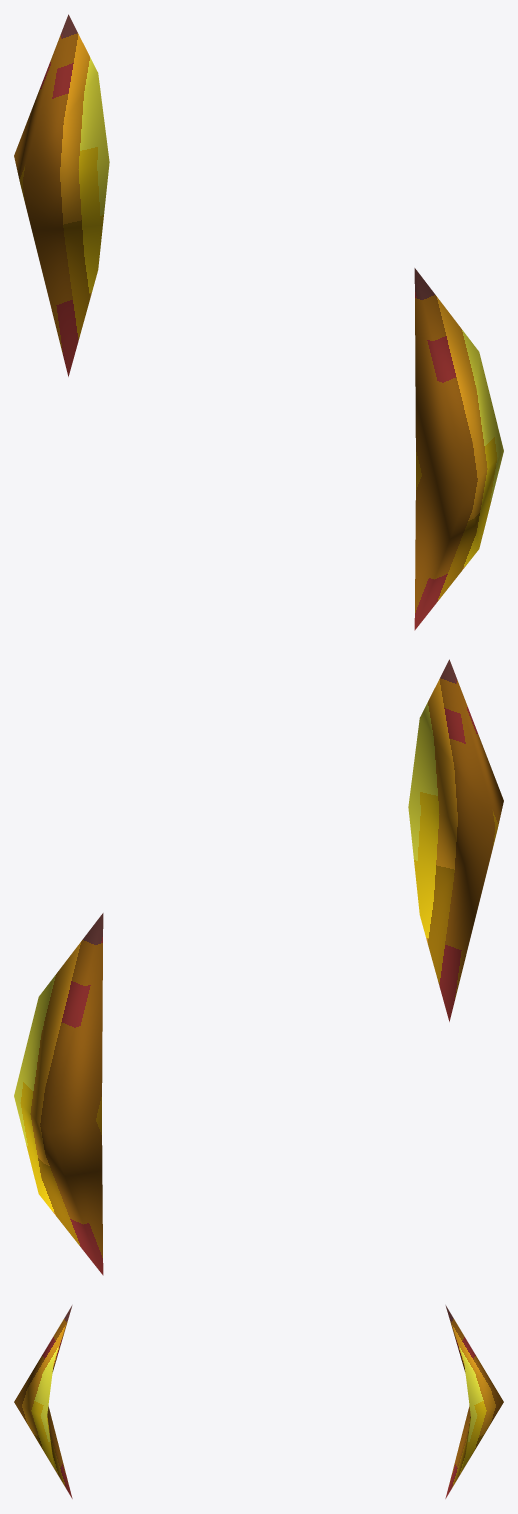
The model's file is BKSHIELD0.obj.
3 views of the same model, one above another, from view 1: azimuth 30°, elevation 25°; view 2: azimuth 150°, elevation 25°; view 3: azimuth 270°, elevation 25° (orthographic). The views are drawn at different scales.
Visible parts, largest first — view 1: BKSHIELD0; view 2: BKSHIELD0; view 3: BKSHIELD0.
Part boxes in pixels (x1,y1,x2,y2): BKSHIELD0: [14, 14, 503, 630]; BKSHIELD0: [14, 659, 503, 1275]; BKSHIELD0: [14, 1305, 503, 1498].
Size of the model in its own units: 1.72 by 6.71 by 15.26.
Materials: 1 (1 with a texture image).
